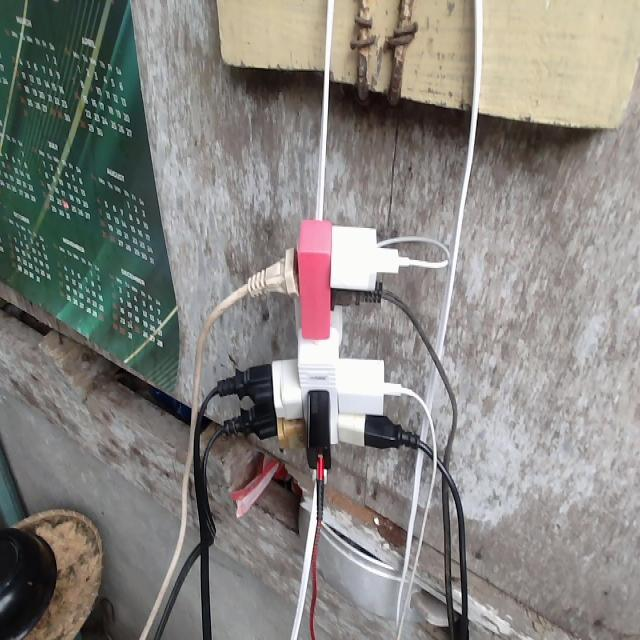-: (244, 220, 412, 479)
